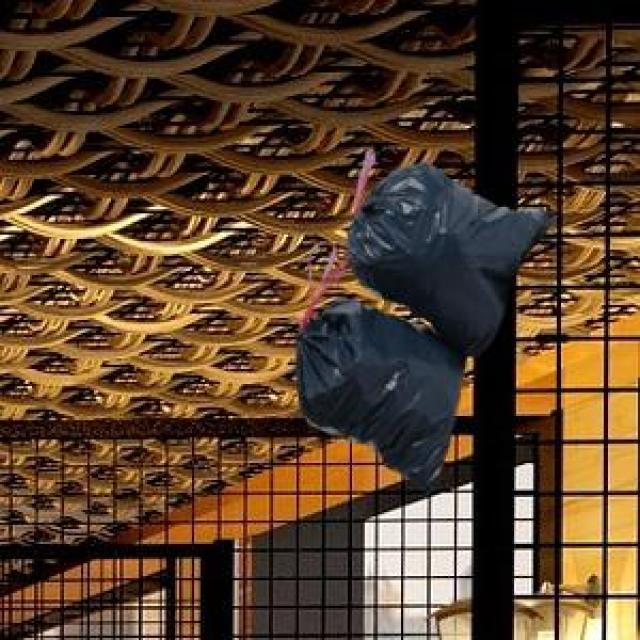miscellaneous trash: (292, 145, 550, 491)
